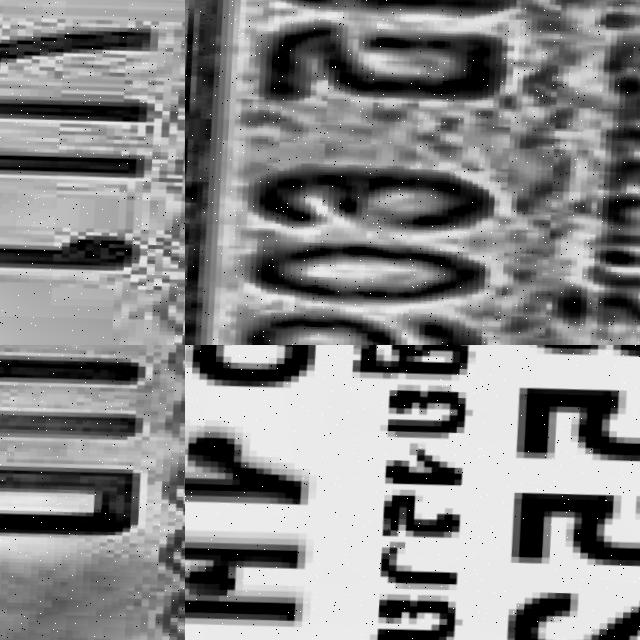license-plate: (185, 0, 640, 345), (185, 345, 640, 640), (0, 0, 185, 345), (0, 345, 185, 640)
